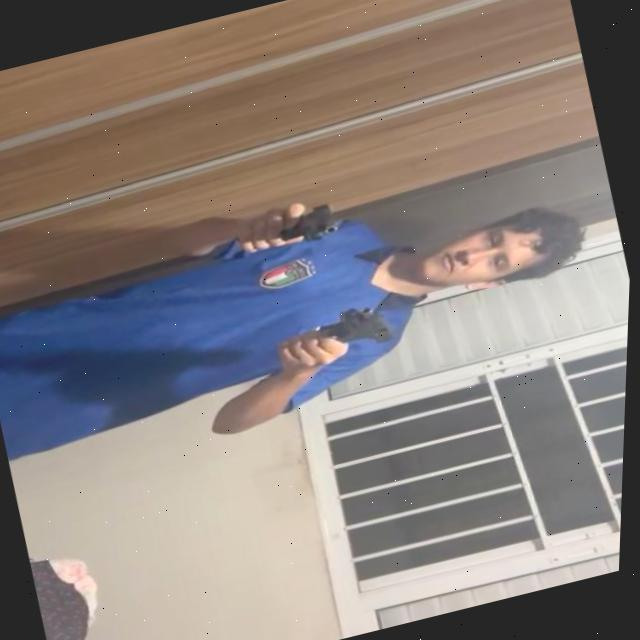gun: (318, 296, 402, 357), (280, 196, 344, 246)
